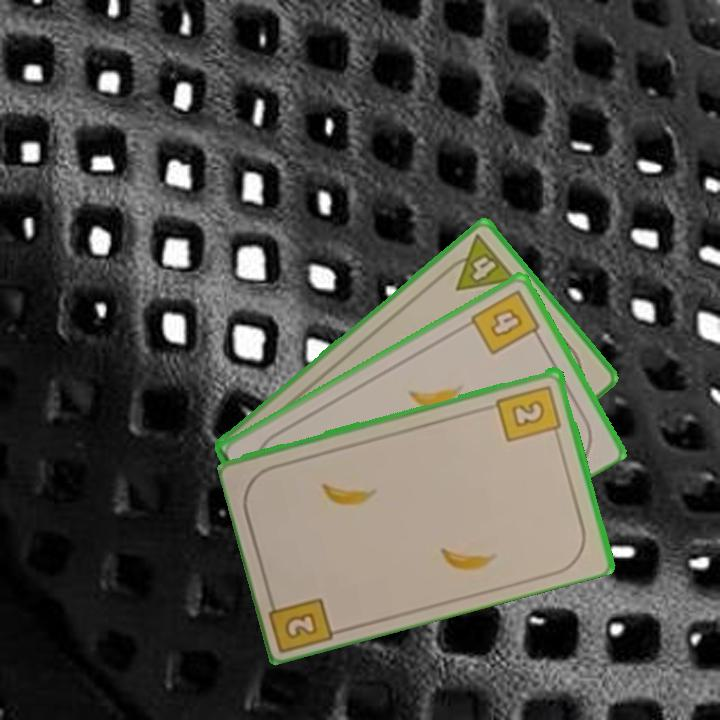2b: (264, 589, 339, 653), (493, 381, 564, 444)
4b: (467, 286, 545, 358)
4p: (439, 231, 519, 294)
